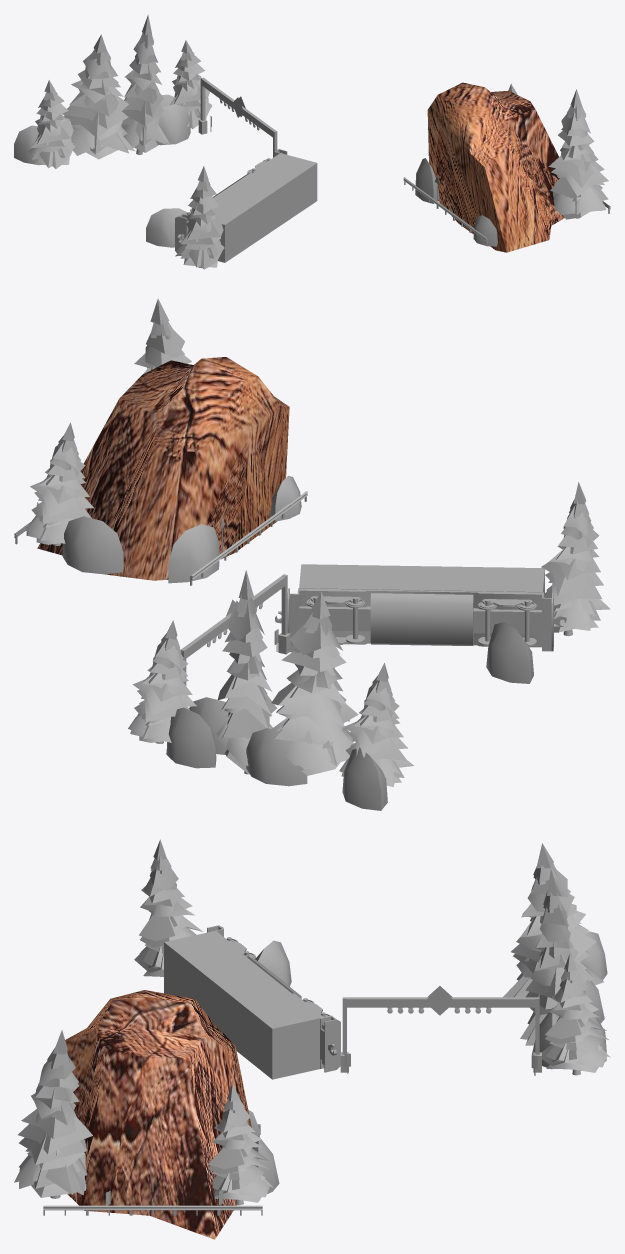
The model's file is Zone_19.fbx.
3 views of the same model, one above another, from view 1: azimuth 30°, elevation 25°; view 2: azimuth 150°, elevation 25°; view 3: azimuth 270°, elevation 25° (orthographic). The views are drawn at different scales.
Parts seen in each view (by area): view 1: polymsh20; view 2: polymsh20; view 3: polymsh20.
Boxes of the visible parts, x1,y1,x2,y2 form: polymsh20: (14, 14, 610, 269); polymsh20: (14, 298, 610, 810); polymsh20: (14, 839, 610, 1239).
Bounding box in the file's own units: 35.5 × 12.46 × 35.03.
